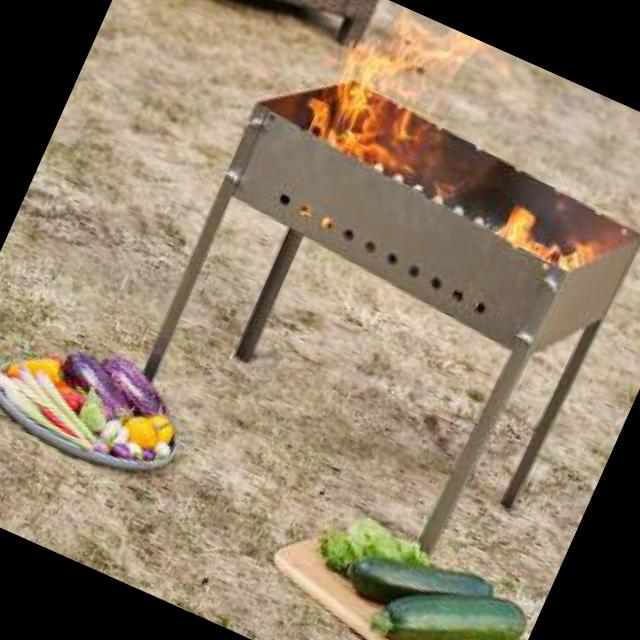fire: (277, 0, 490, 201), (480, 168, 612, 288)
